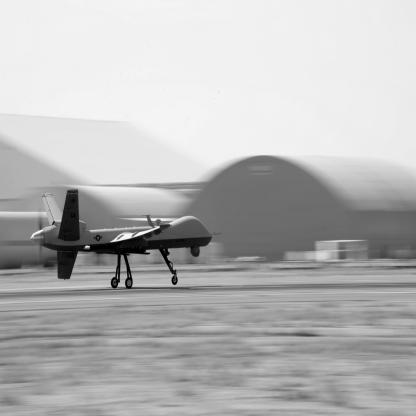MQ9: (31, 190, 223, 290)
